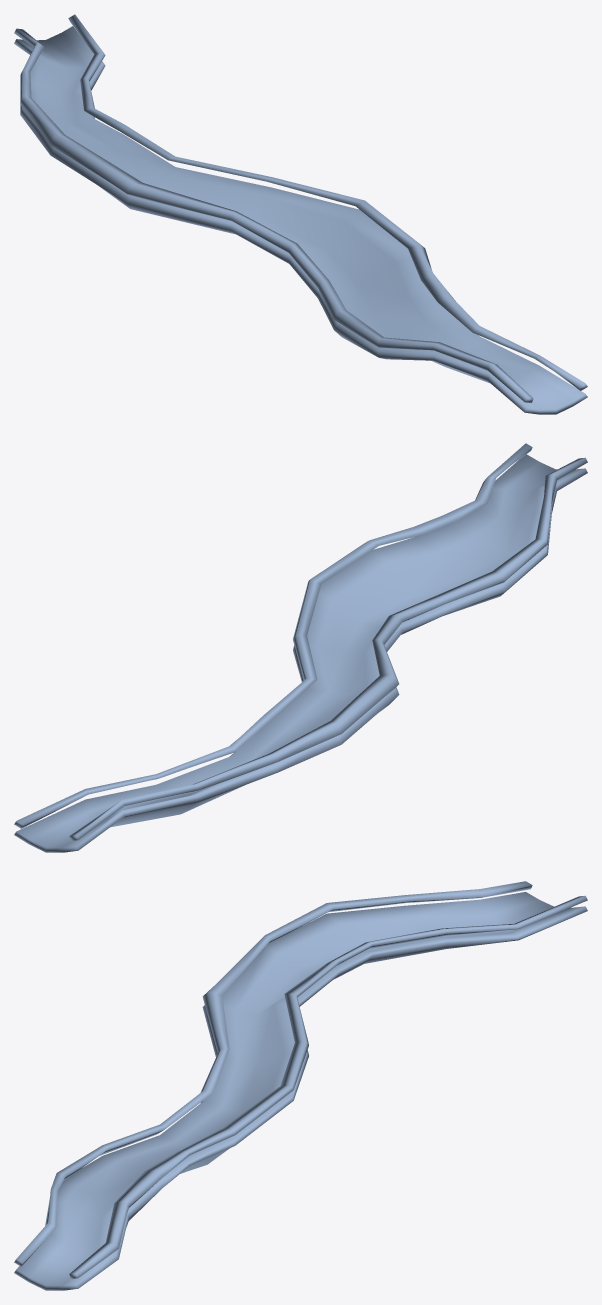
File: junRoadLongCurve2p5.fbx
3 views of the same model, one above another, from view 1: azimuth 30°, elevation 25°; view 2: azimuth 150°, elevation 25°; view 3: azimuth 330°, elevation 25° (orthographic).
Parts seen in each view (by area): view 1: junRoadLongCurve2p5_LOD0, junRoadLongCurve2p5_edge_LOD0; view 2: junRoadLongCurve2p5_LOD0, junRoadLongCurve2p5_edge_LOD0; view 3: junRoadLongCurve2p5_LOD0, junRoadLongCurve2p5_edge_LOD0.
Boxes of the visible parts, bbox=[...] form: junRoadLongCurve2p5_LOD0: bbox=[14, 26, 587, 414]; junRoadLongCurve2p5_edge_LOD0: bbox=[14, 14, 587, 403]; junRoadLongCurve2p5_LOD0: bbox=[14, 454, 587, 852]; junRoadLongCurve2p5_edge_LOD0: bbox=[14, 443, 587, 840]; junRoadLongCurve2p5_LOD0: bbox=[14, 892, 587, 1290]; junRoadLongCurve2p5_edge_LOD0: bbox=[14, 881, 587, 1278].
Bounding box in the file's own units: 899 × 292 × 4390.
